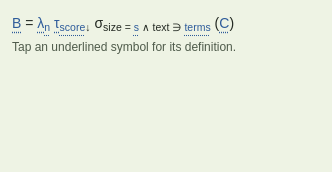
Test case: formulas › shows the hint until a symbol is tapped or hovered
The image size is (332, 172).
Step 1. Hover over the button "C" → (224, 23), box x1=219 y1=12 x2=229 y2=35
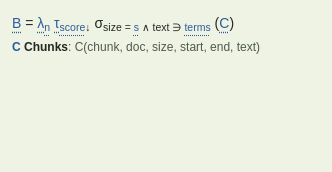
Step 2. Move the pointer off the element that starts with "size", box x1=12 y1=12 x2=260 y2=54
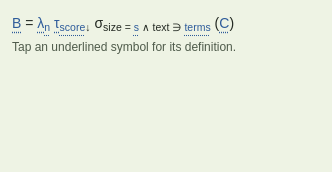
Now the text "Tap an underlined symbol for its definition." is shown, box x1=12 y1=40 x2=236 y2=54
